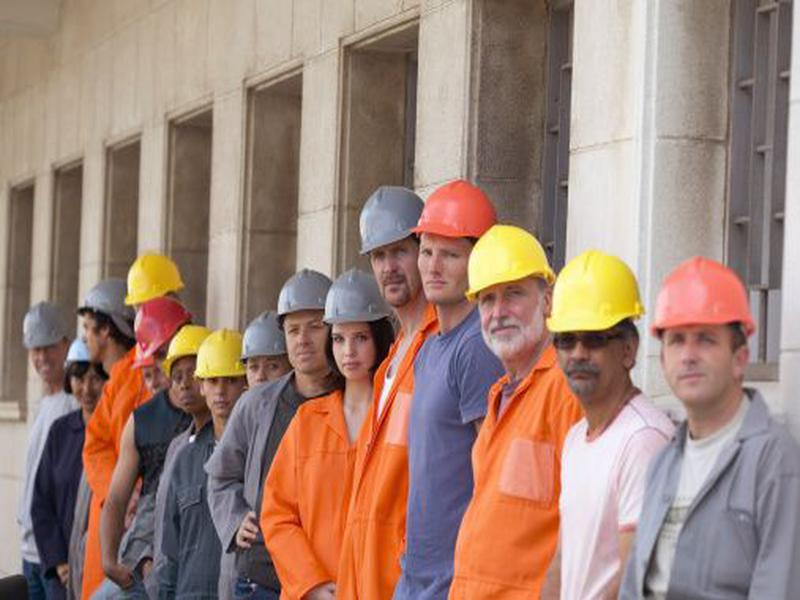hard-hat: (647, 254, 759, 342), (545, 245, 647, 339), (461, 221, 560, 306), (404, 176, 505, 246), (355, 183, 434, 259), (265, 265, 348, 328), (319, 263, 398, 328), (74, 276, 144, 341), (132, 296, 197, 362), (237, 307, 302, 367), (122, 251, 188, 307), (190, 325, 256, 379), (160, 321, 221, 376), (19, 300, 72, 349), (60, 334, 117, 370)
